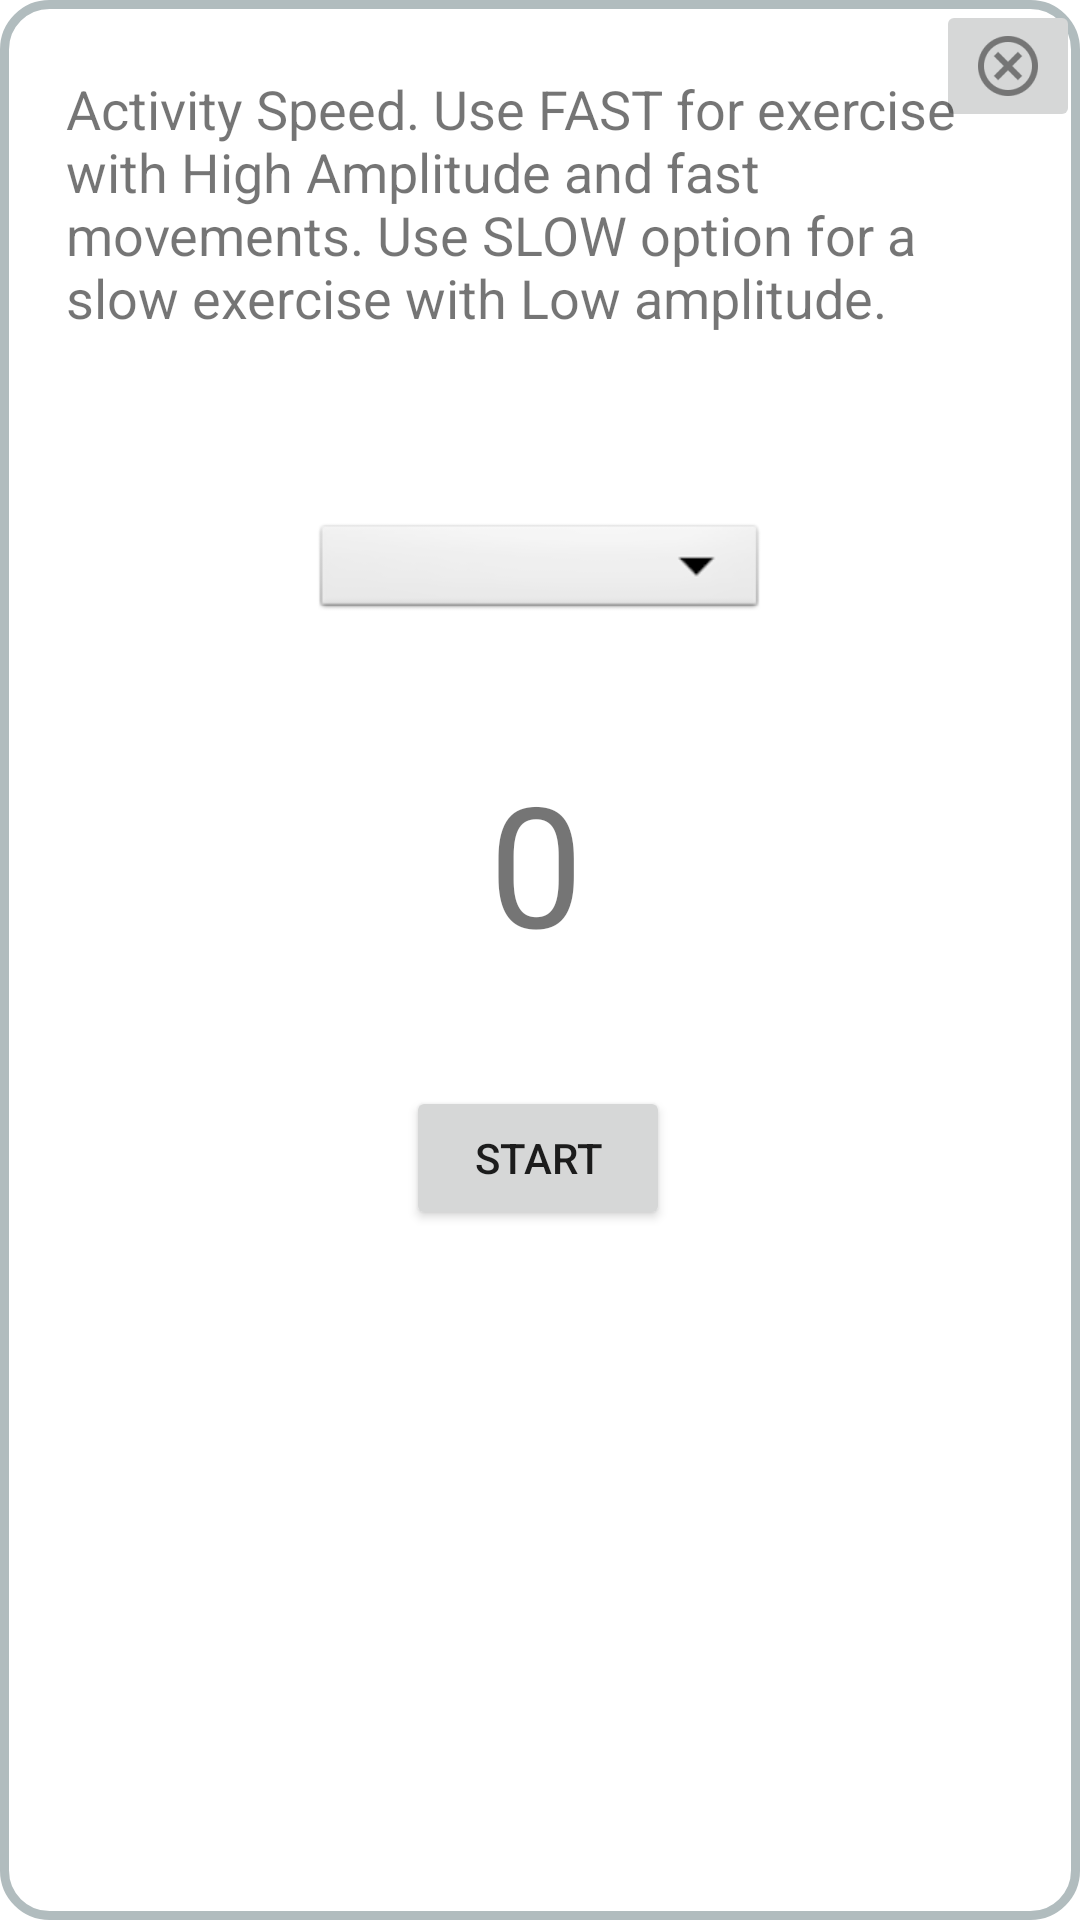

Locate icon controls on the screen. Image size 1080 x 1920, boxes as {"left": x1, "top": y1, "right": x2, "bottom": y2}.
close: {"left": 936, "top": 0, "right": 1080, "bottom": 132}
